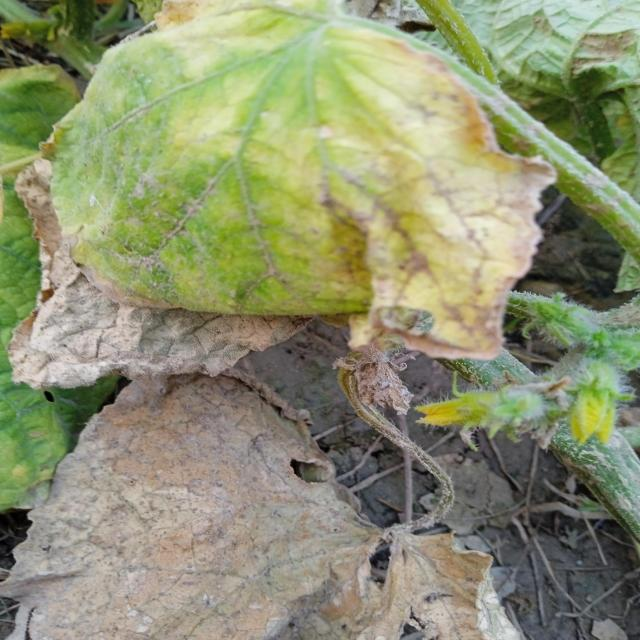cucumber_bacterial: (5, 0, 548, 398), (0, 359, 529, 640)
